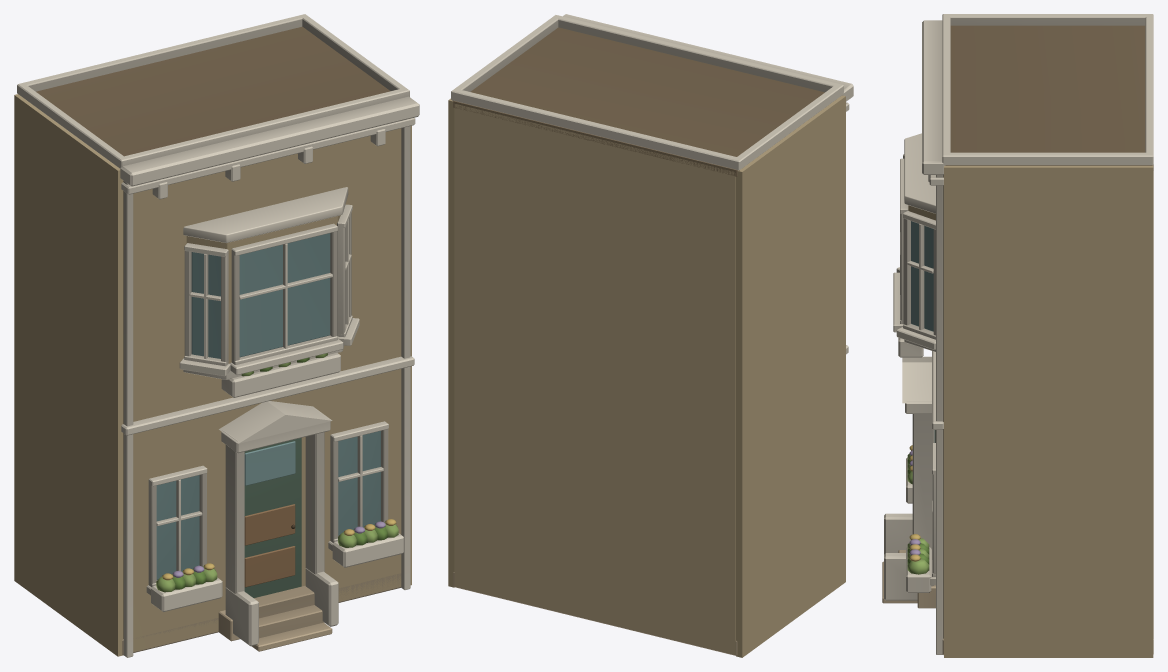
Rendered from facade_sf_7.glb.
3 renders of one model, left to right at view 1: azimuth 30°, elevation 25°; view 2: azimuth 150°, elevation 25°; view 3: azimuth 270°, elevation 25°, orthographic.
Parts seen in each view (by area): view 1: facade_sf_7; view 2: facade_sf_7; view 3: facade_sf_7.
Part boxes in pixels (x1=…): facade_sf_7: x1=14, y1=14, x2=419, y2=657; facade_sf_7: x1=448, y1=14, x2=853, y2=657; facade_sf_7: x1=882, y1=14, x2=1153, y2=657.
Bounding box in the file's own units: 4.05 × 6.53 × 3.21.
